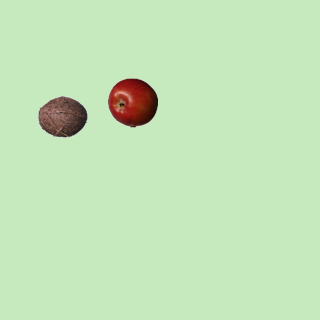Apple Braeburn: (107, 77, 157, 127)
Cocos: (37, 91, 87, 141)
